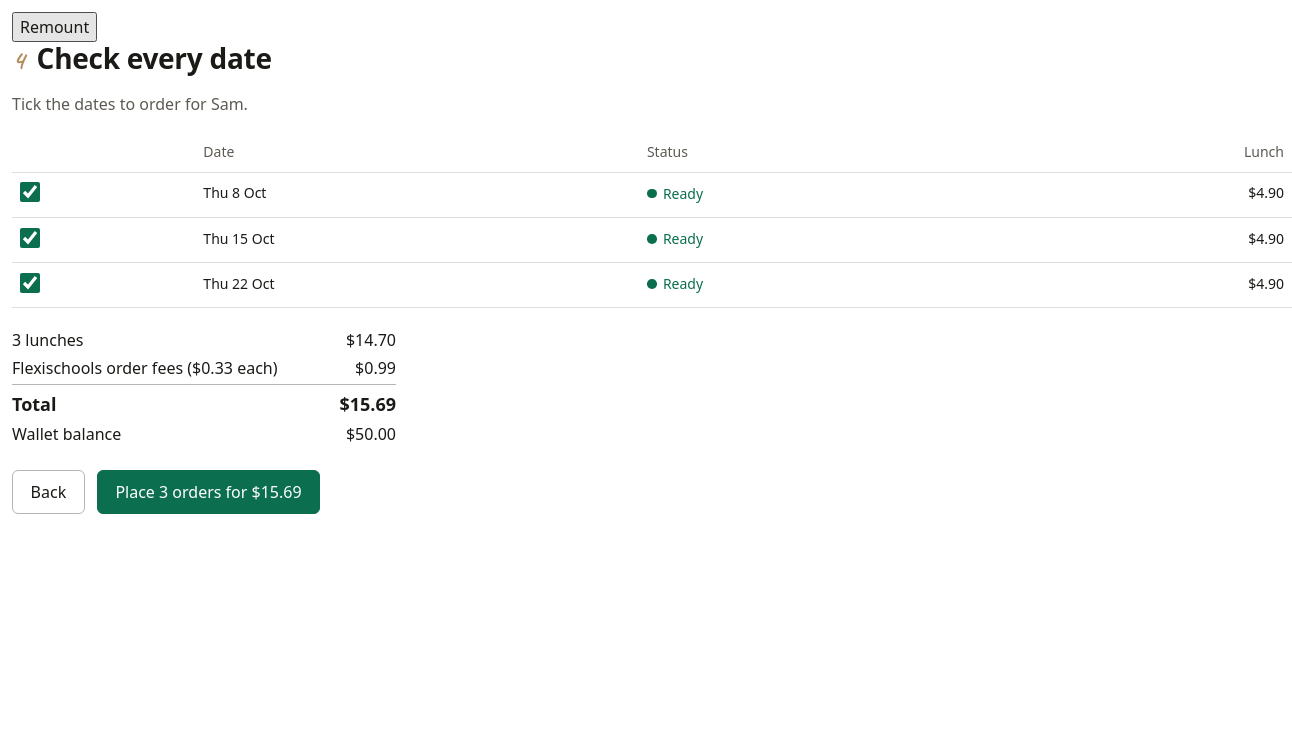
CheckStep › takes a date off the batch when it is unticked
Check: the button "Place 3 orders for $15.69" is shown, box [97, 470, 320, 514]
Click the checkbox named "Order for Thu 15 Oct". click: x=30, y=238
box: [20, 228, 40, 248]
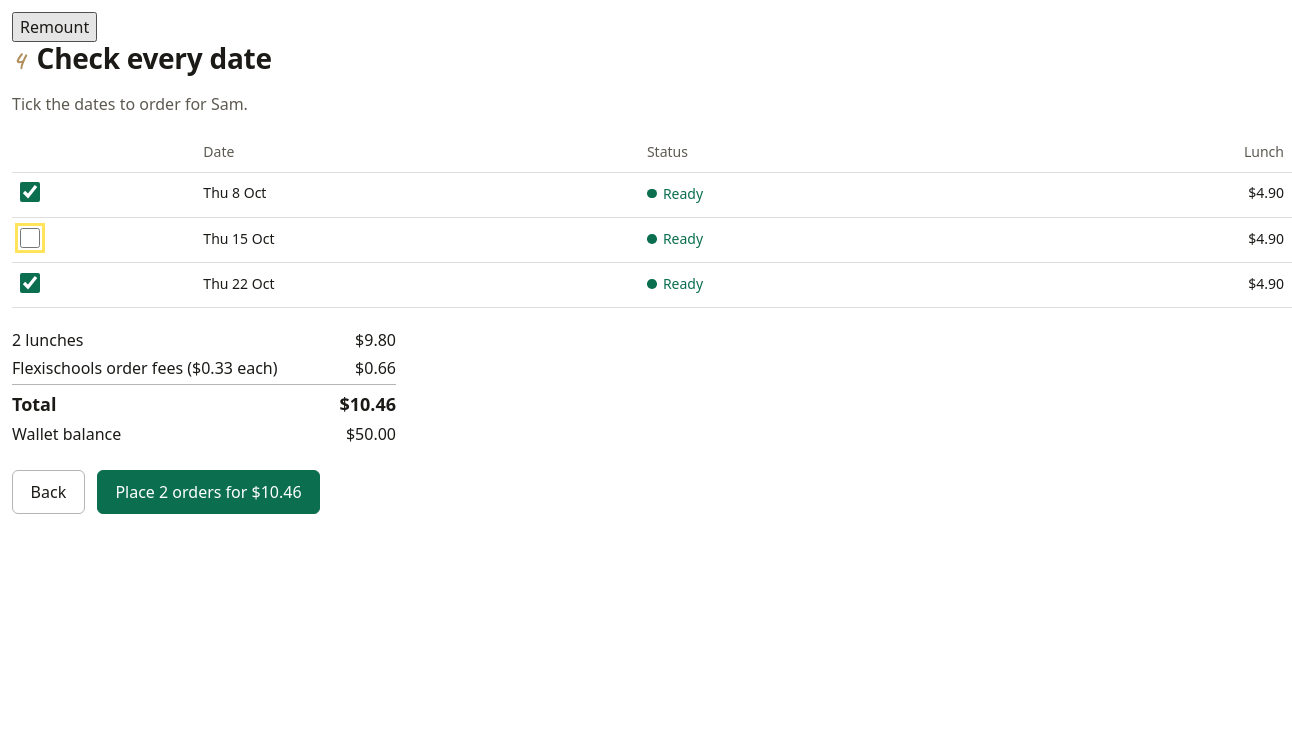
Check: the button "Place 2 orders for $10.46" is enabled, box [97, 470, 320, 514]
Check: the text "2 lunches" is shown, box [12, 329, 84, 351]
